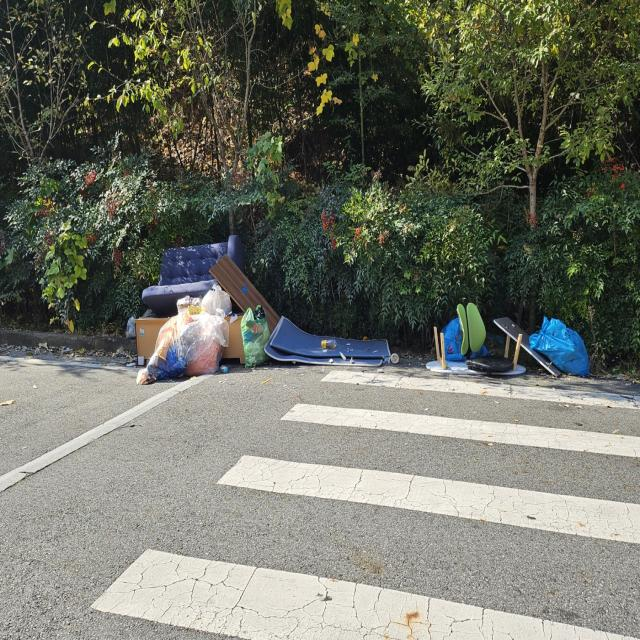General Waste: (122, 229, 606, 388), (530, 317, 592, 374)
Large Waste Items: (130, 307, 265, 366), (132, 238, 249, 306), (273, 309, 391, 370), (207, 251, 285, 336), (428, 322, 527, 378), (457, 309, 514, 383)
